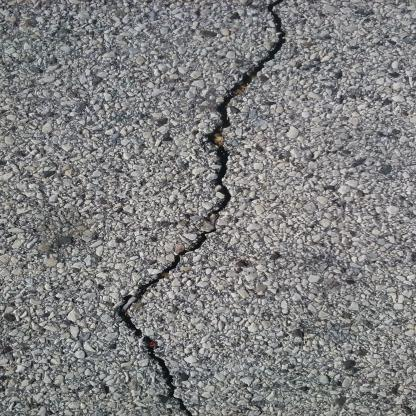Cracks: (98, 1, 301, 416)
